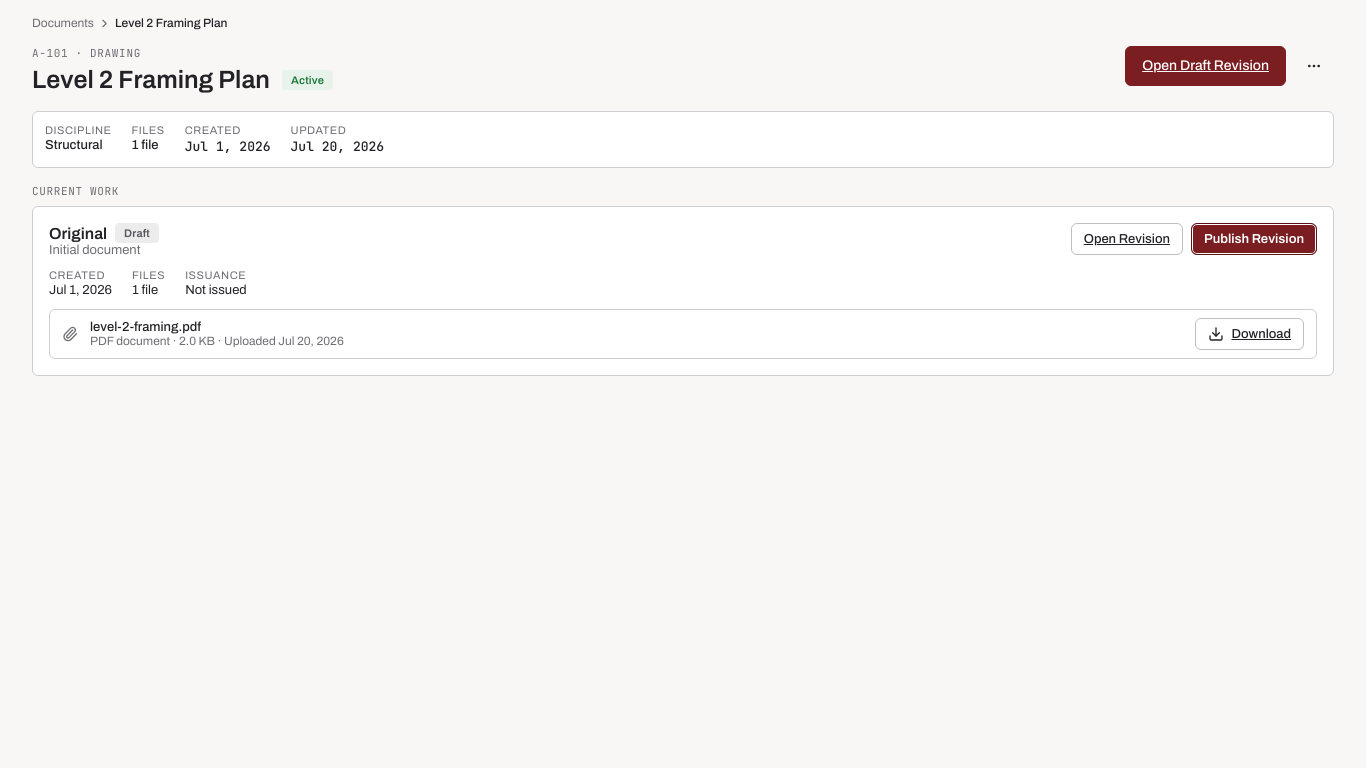
Scenario: Record workspace — capabilities and lifecycle › keeps the confirmation open and explains a failed publication
The width and height of the screenshot is (1366, 768).
Expected: the header with class "base-workspace__identity" is shown, x1=32 y1=46 x2=1334 y2=95
Click the button "Publish revision".
click(1254, 239)  # box x1=1191 y1=223 x2=1317 y2=255
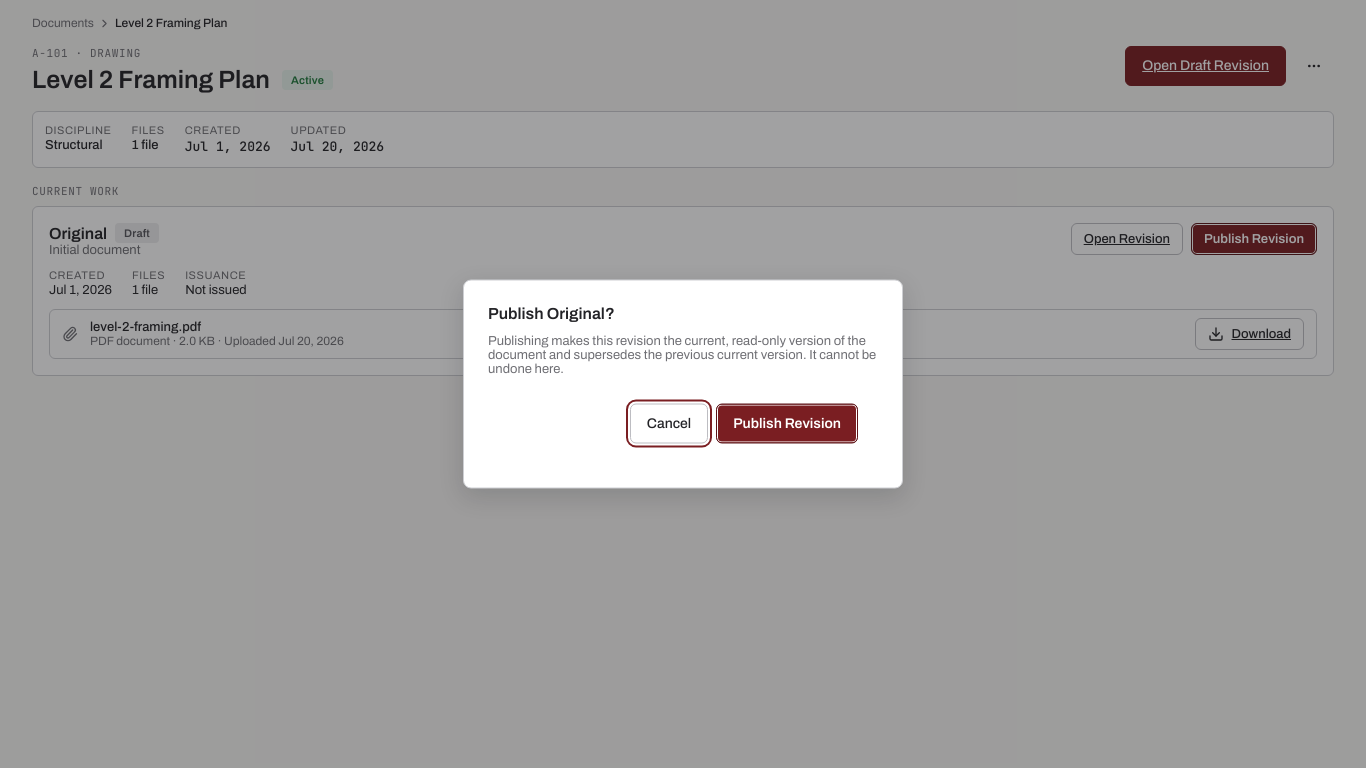
Click the button "Publish revision".
click(787, 424)  # box x1=716 y1=404 x2=858 y2=444
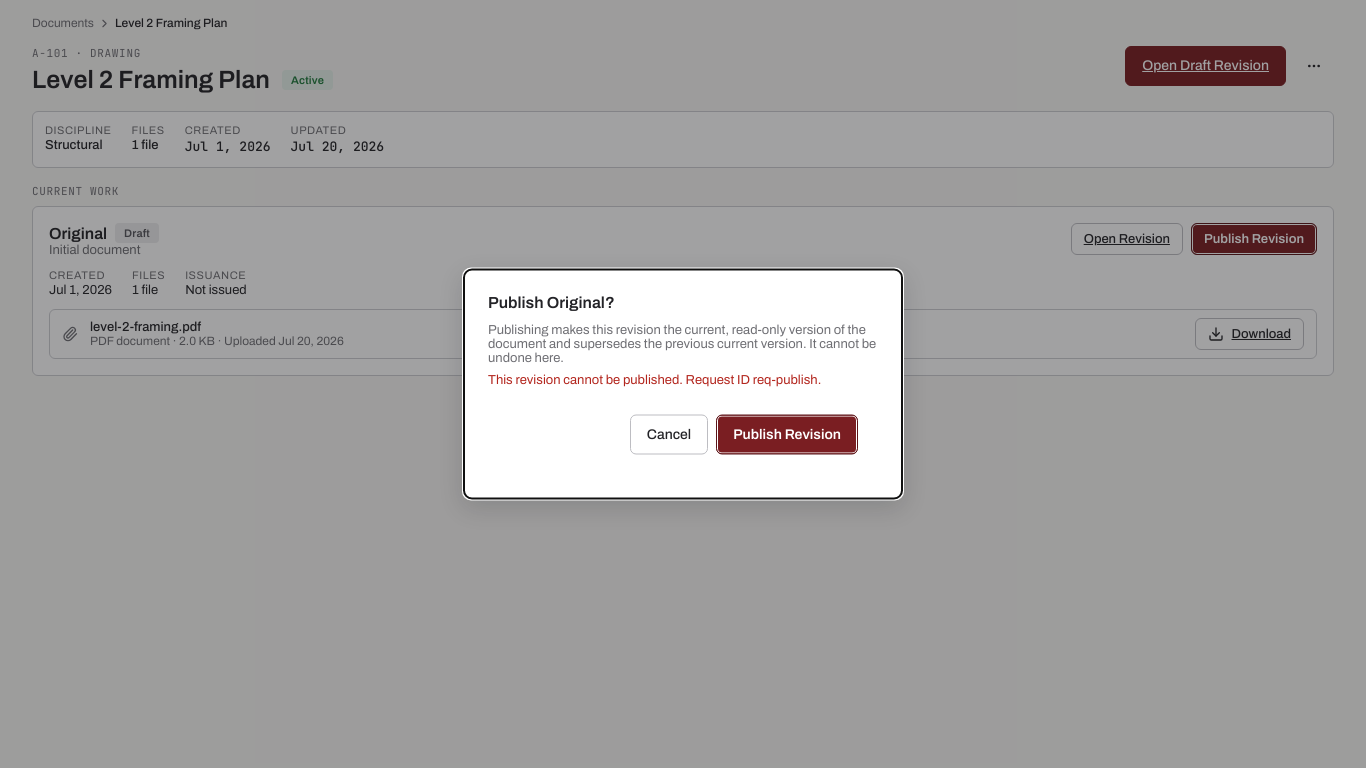
Result: the dialog shows "This revision cannot be published." at x1=488 y1=372 x2=683 y2=386
Result: the dialog shows "req-publish" at x1=683 y1=372 x2=821 y2=386
